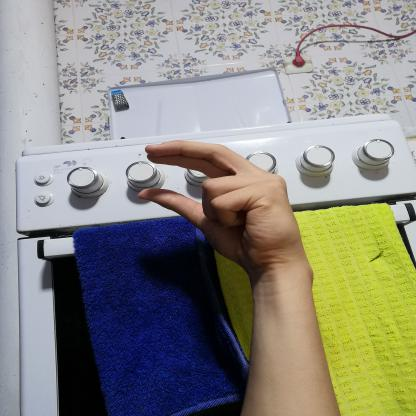DHELL: (125, 133, 309, 273)
